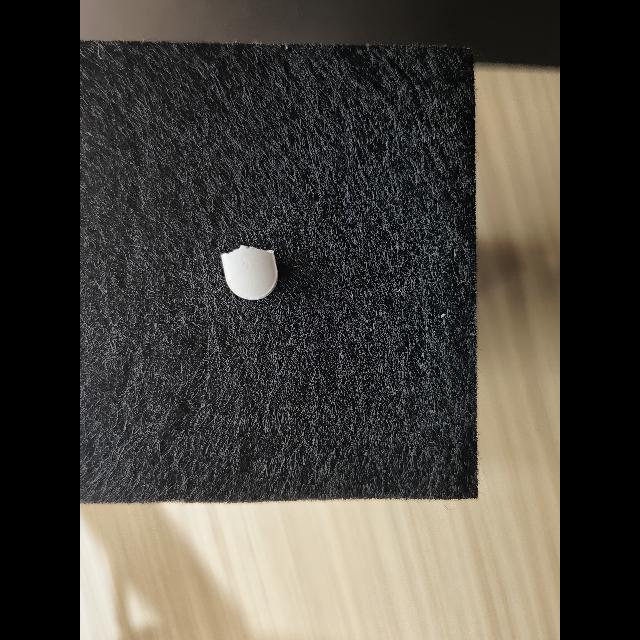Chipped Pill: (221, 245, 278, 300)
